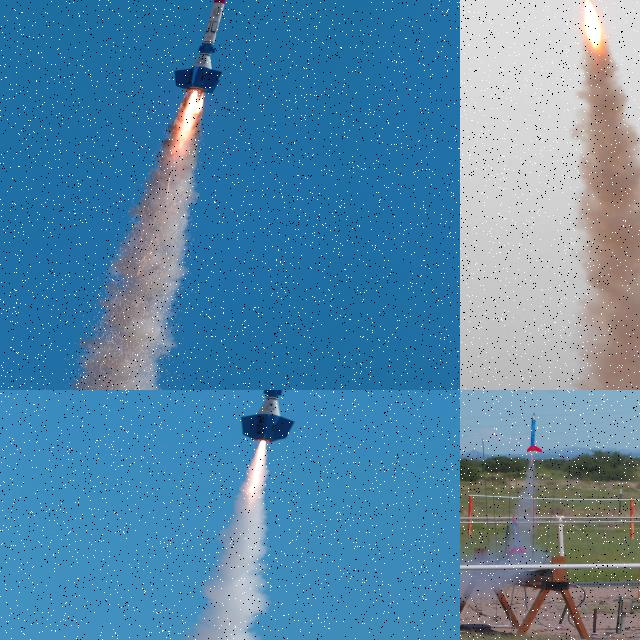Rocket: (172, 0, 229, 94), (239, 390, 297, 444), (526, 412, 542, 453), (510, 514, 526, 554), (498, 525, 512, 561)
